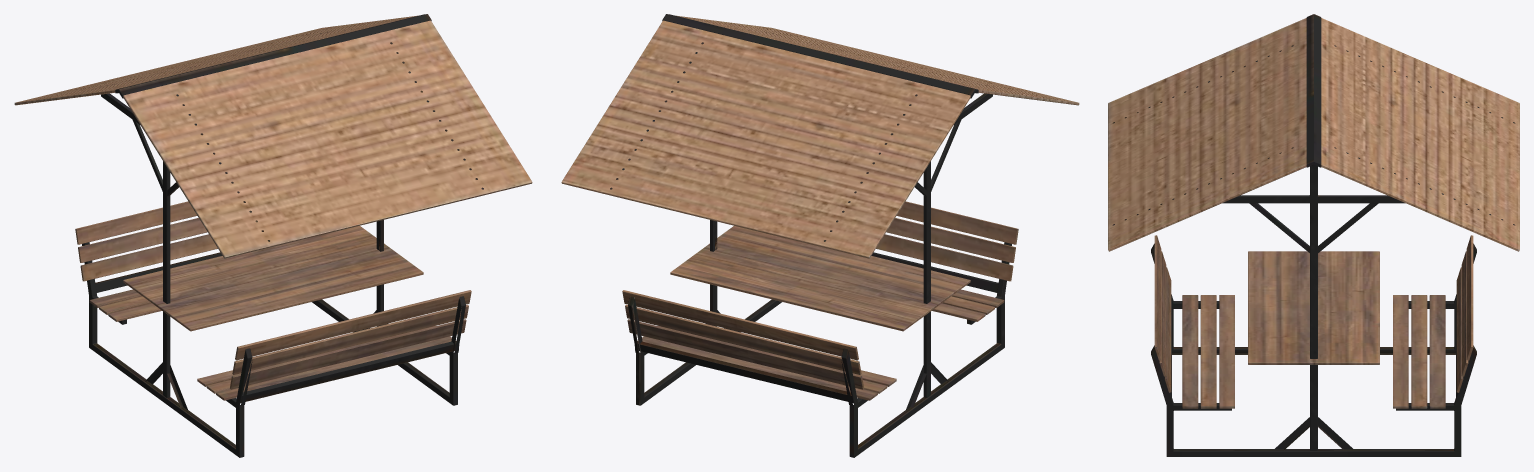
The model's file is gazebo.zfix-v14.lod0.glb.
The picture shows the model from 3 angles, left to right: view 1: azimuth 30°, elevation 25°; view 2: azimuth 150°, elevation 25°; view 3: azimuth 270°, elevation 25°; orthographic projection. The views are drawn at different scales.
Visible parts, largest first — view 1: Object_4; view 2: Object_4; view 3: Object_4.
Boxes of the visible parts, left/top/right/bottom form: Object_4: left=14, top=14, right=532, bottom=457; Object_4: left=561, top=14, right=1079, bottom=457; Object_4: left=1108, top=14, right=1519, bottom=456.
Size of the model in its own units: 3.59 by 3.62 by 4.23.
1 material, 1 textured.
